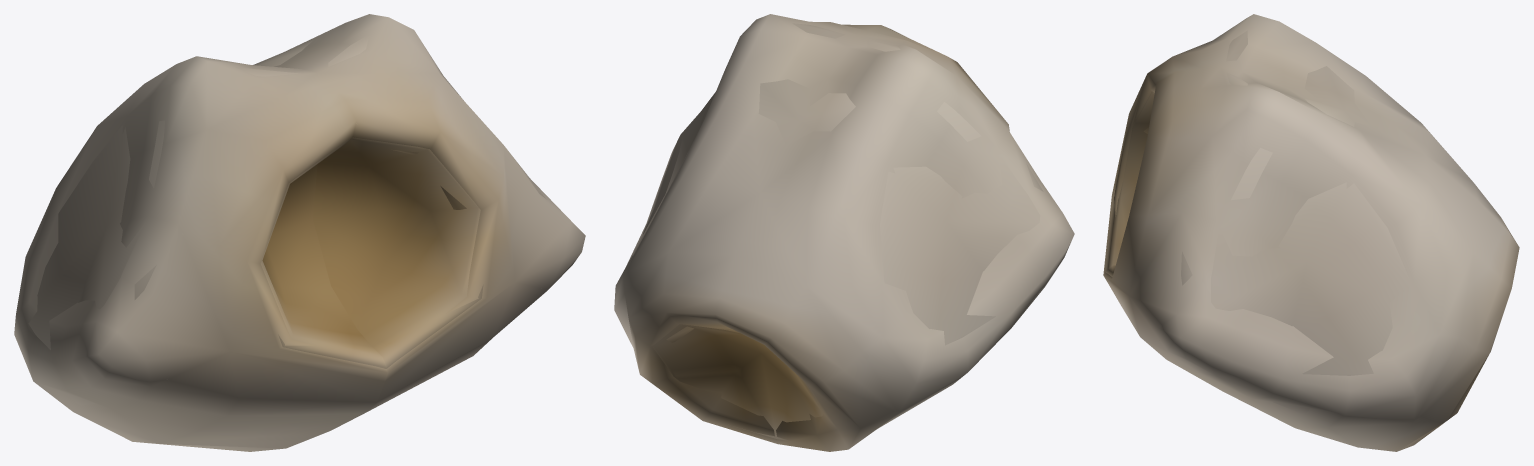
The model's file is vertebrae caudales 09.fbx.
3 renders of one model, left to right at view 1: azimuth 30°, elevation 25°; view 2: azimuth 150°, elevation 25°; view 3: azimuth 270°, elevation 25°, orthographic. The views are drawn at different scales.
Visible parts, largest first — view 1: vertebrae caudales 09, vertebrae caudales 09 low; view 2: vertebrae caudales 09, vertebrae caudales 09 low; view 3: vertebrae caudales 09, vertebrae caudales 09 low.
Part boxes in pixels (left/top/right/bottom): vertebrae caudales 09: left=14, top=14, right=585, bottom=451; vertebrae caudales 09 low: left=28, top=34, right=546, bottom=405; vertebrae caudales 09: left=614, top=14, right=1074, bottom=451; vertebrae caudales 09 low: left=627, top=23, right=1043, bottom=443; vertebrae caudales 09: left=1103, top=14, right=1519, bottom=451; vertebrae caudales 09 low: left=1105, top=30, right=1411, bottom=414.
Bounding box in the file's own units: 1.22 × 1.09 × 1.07.
1 material, 1 textured.
